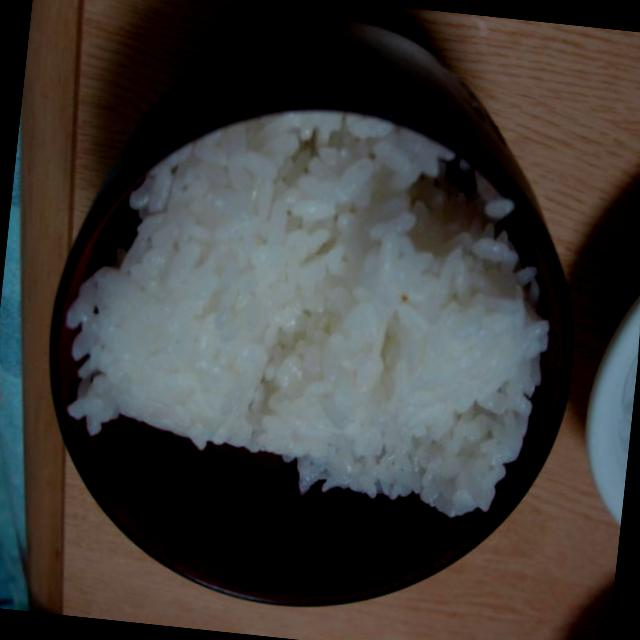Rice: (38, 70, 572, 545)
